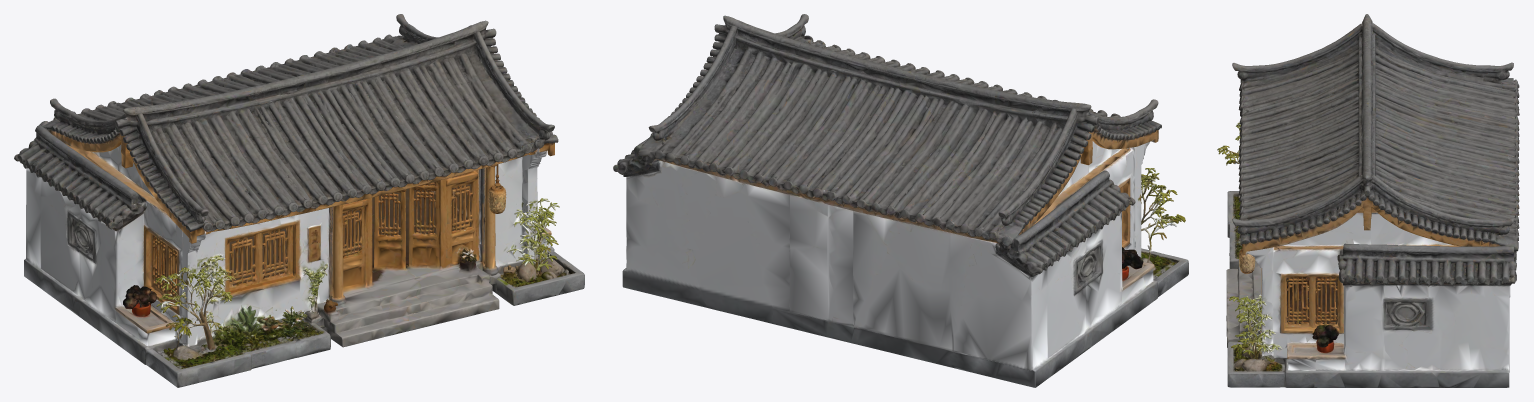
The model's file is lib_courtyard.hd.glb.
The picture shows the model from 3 angles, left to right: view 1: azimuth 30°, elevation 25°; view 2: azimuth 150°, elevation 25°; view 3: azimuth 270°, elevation 25°; orthographic projection. The views are drawn at different scales.
Bounding box in the file's own units: 1.88 × 0.9286 × 1.27.
Materials: 1 (1 with a texture image).
